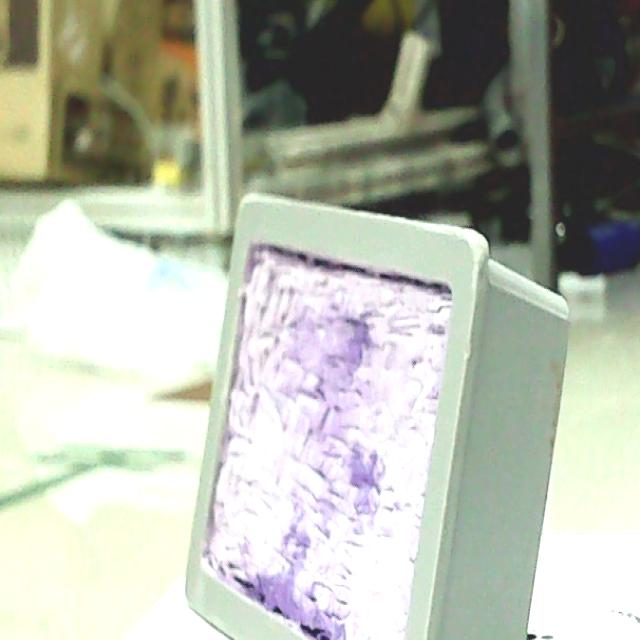block: (182, 189, 570, 640)
